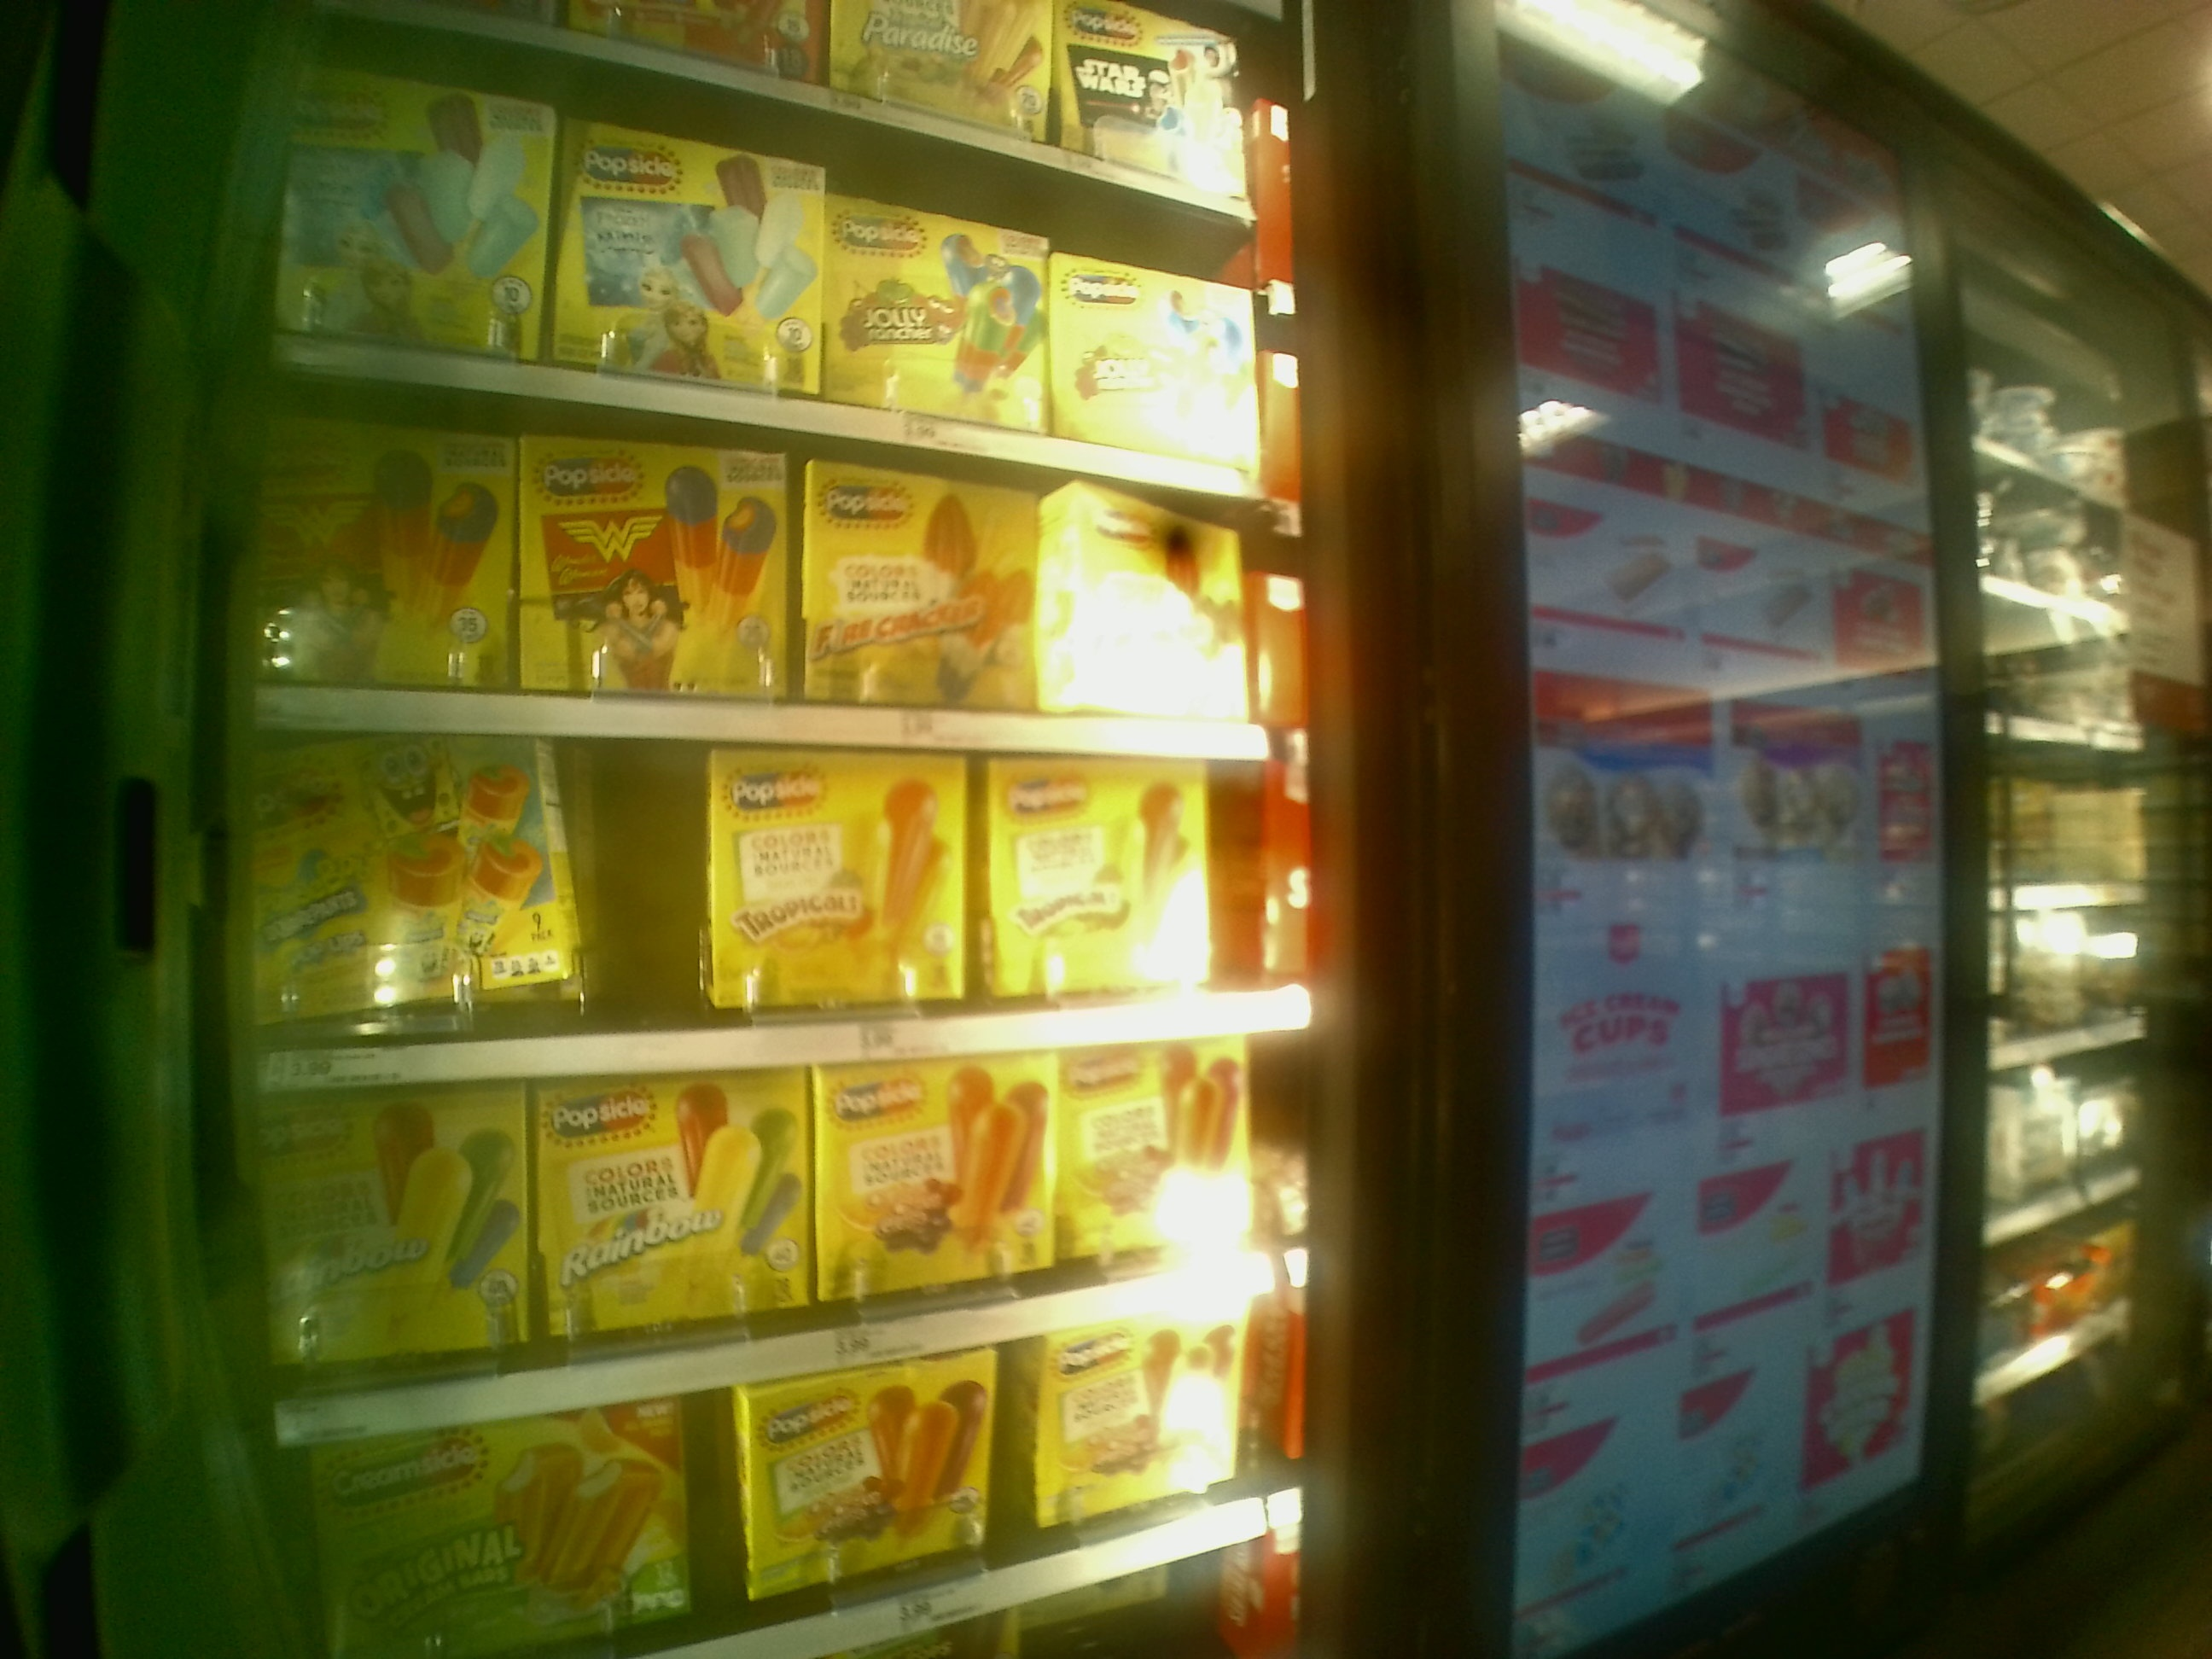frozen-food-shelf: (240, 762, 1320, 1079)
